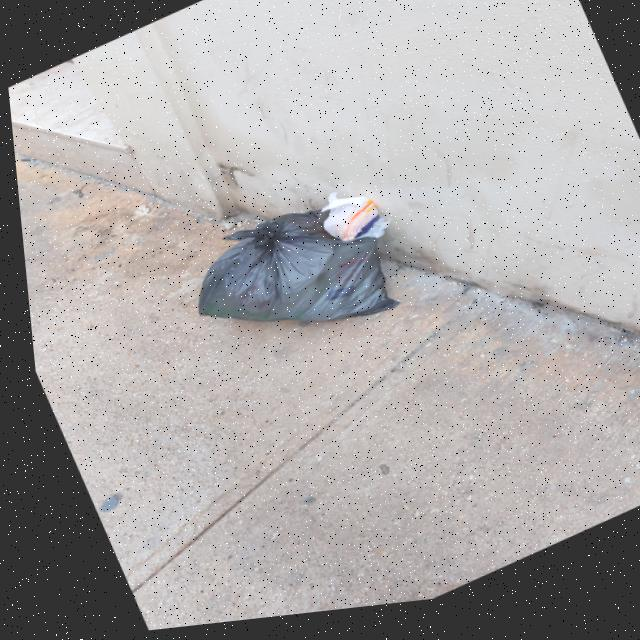Mixed Waste -Black Bag-: (163, 184, 404, 392)
Other: (299, 181, 393, 271)
